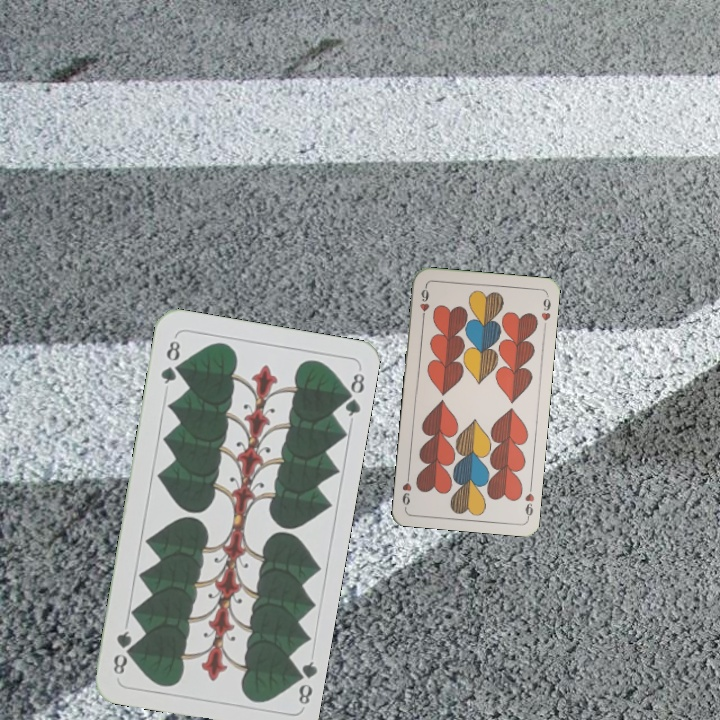G8: (288, 657, 319, 707), (156, 333, 183, 387)
H9: (521, 480, 537, 521), (416, 282, 432, 322)
